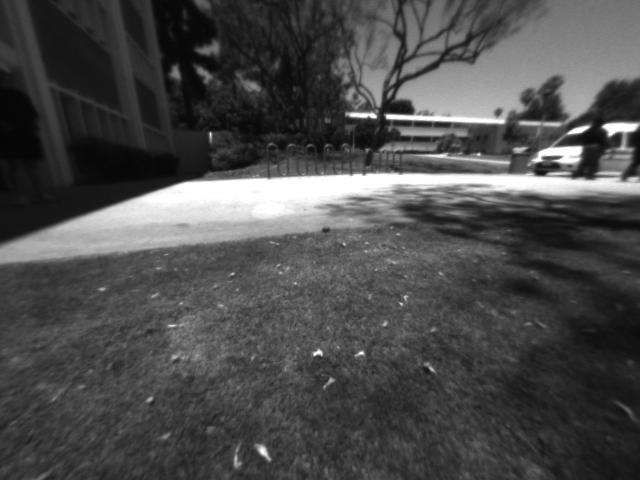dogtoy: (316, 217, 337, 242)
